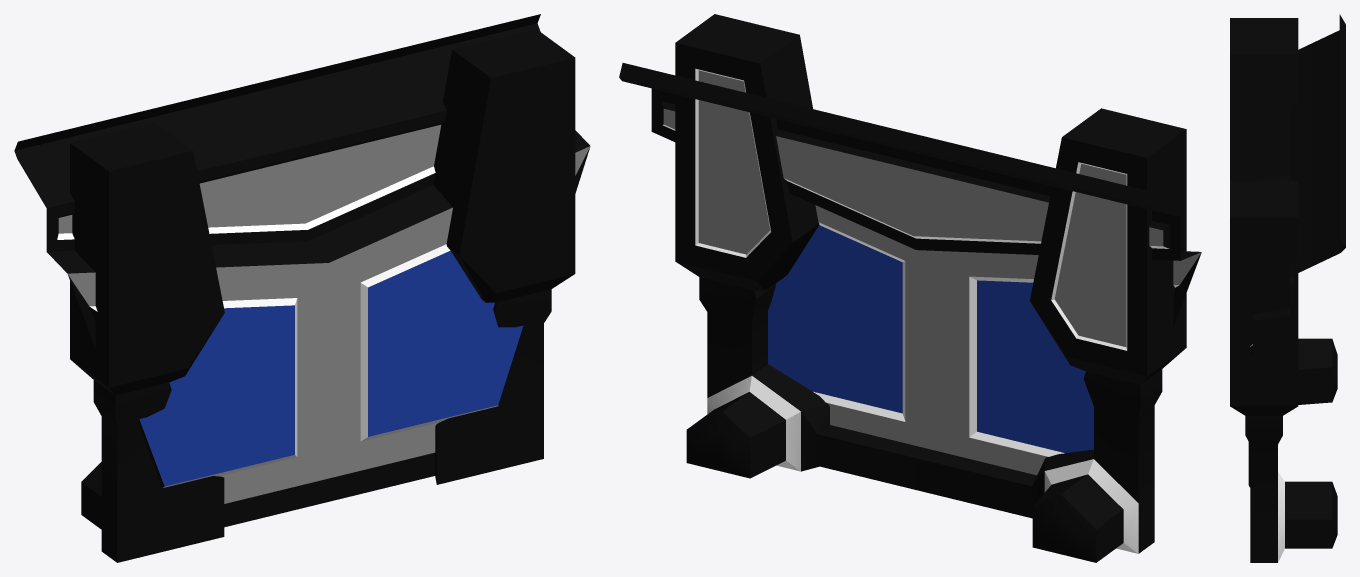
The model's file is Ending_square_03.FBX.
3 renders of one model, left to right at view 1: azimuth 30°, elevation 25°; view 2: azimuth 150°, elevation 25°; view 3: azimuth 270°, elevation 25°, orthographic. The views are drawn at different scales.
Parts seen in each view (by area): view 1: Ending001; view 2: Ending001; view 3: Ending001.
Boxes of the visible parts, x1=… form: Ending001: x1=14, y1=14, x2=590, y2=562; Ending001: x1=619, y1=14, x2=1201, y2=562; Ending001: x1=1230, y1=14, x2=1345, y2=562.
Bounding box in the file's own units: 918 × 679 × 201.
